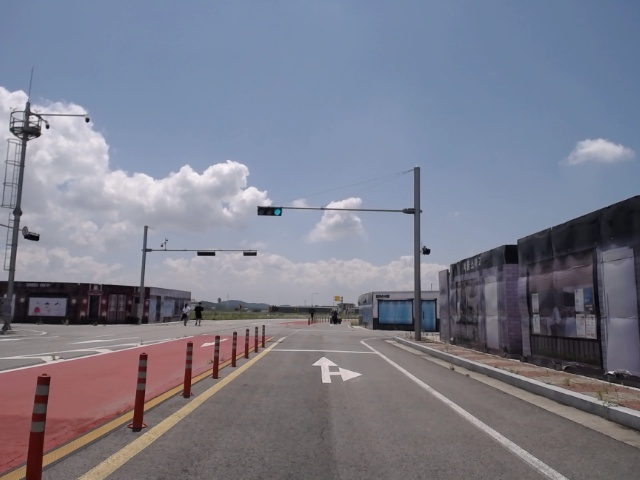green_3: (257, 206, 282, 215)
